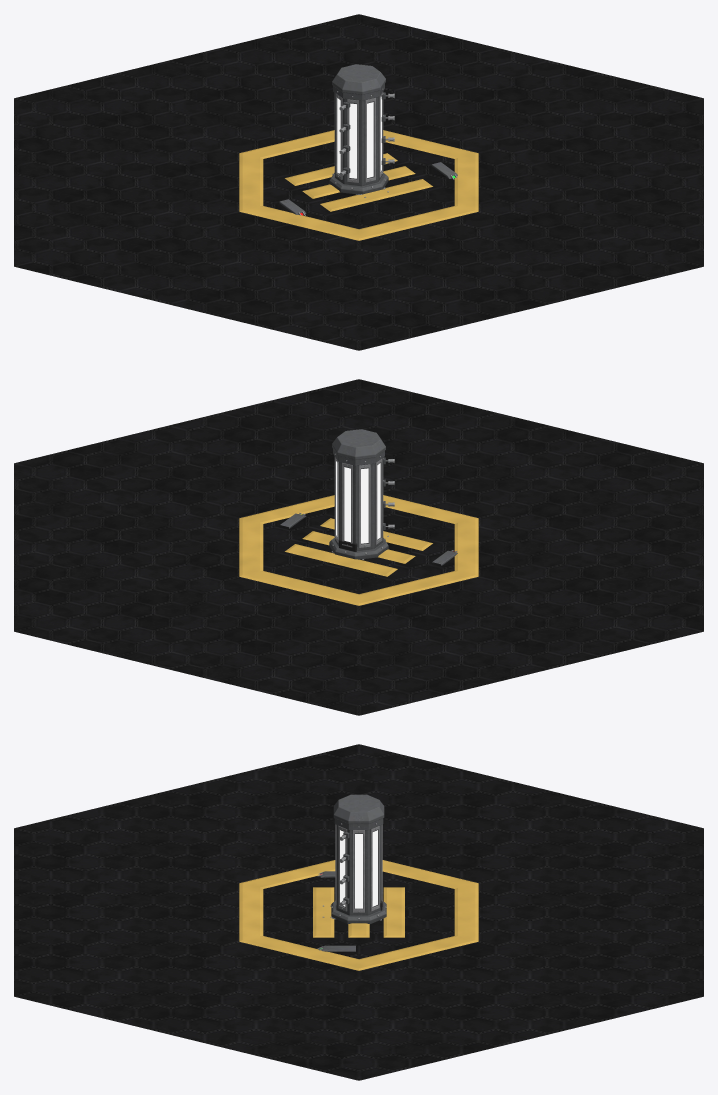
File: ring-kit-lite.glb
3 renders of one model, top to bottom at view 1: azimuth 30°, elevation 25°; view 2: azimuth 150°, elevation 25°; view 3: azimuth 270°, elevation 25°, orthographic.
Visible parts, largest first — view 1: Canvas, Emblem, Post, PostLED_InL, PostLED_In; view 2: Canvas, Emblem, Post, PostLED_OutL; view 3: Canvas, Emblem, Post, PostLED_R.
Boxes of the visible parts, left/top/right/bottom form: Canvas: left=14, top=14, right=703, bottom=350; Emblem: left=239, top=130, right=478, bottom=240; Post: left=329, top=64, right=394, bottom=194; PostLED_InL: left=349, top=103, right=356, bottom=178; PostLED_In: left=367, top=102, right=373, bottom=177; Canvas: left=14, top=379, right=703, bottom=715; Emblem: left=239, top=495, right=478, bottom=605; Post: left=329, top=429, right=394, bottom=559; PostLED_OutL: left=361, top=468, right=368, bottom=543; Canvas: left=14, top=744, right=703, bottom=1080; Emblem: left=239, top=860, right=478, bottom=970; Post: left=331, top=794, right=386, bottom=923; PostLED_R: left=355, top=834, right=362, bottom=908.
Size of the model in its own units: 12.1 by 2.89 by 10.48.
12 materials, 7 textured.
